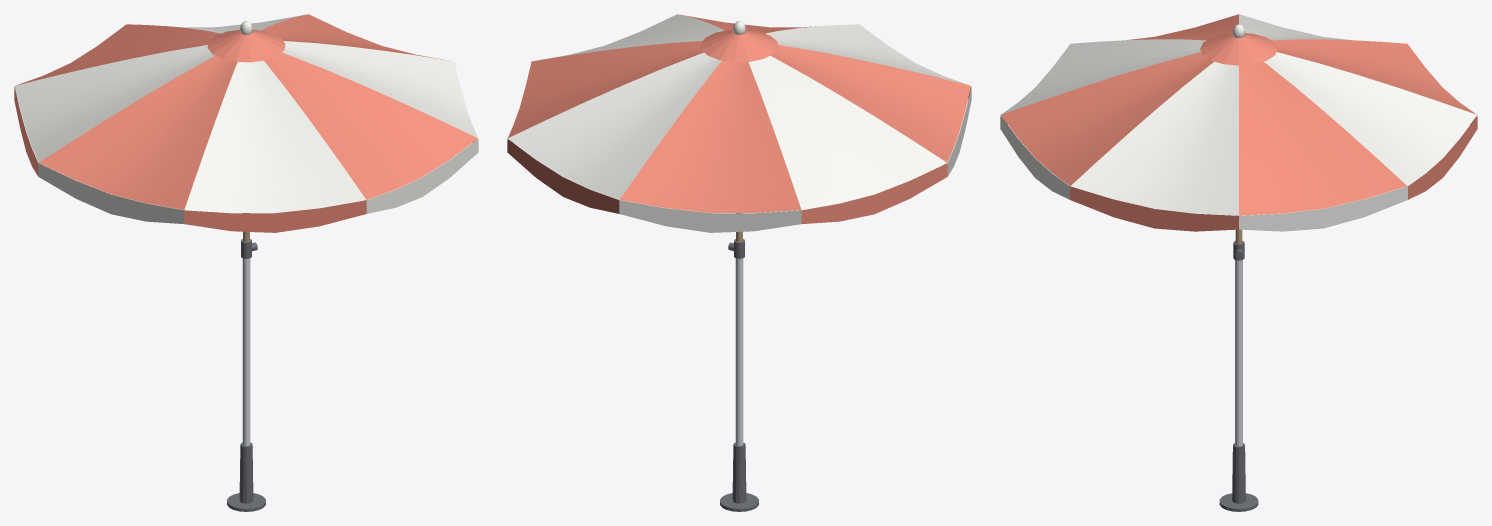
File: beach-surf-and-paddle-kit-beach-umbrella-fb839e7d.glb
3 views of the same model, side by side, from view 1: azimuth 30°, elevation 25°; view 2: azimuth 150°, elevation 25°; view 3: azimuth 270°, elevation 25° (orthographic).
Visible parts, largest first — view 1: beach-umbrella-coral, beach-umbrella-foam, beach-umbrella-steel, beach-umbrella-charcoal; view 2: beach-umbrella-coral, beach-umbrella-foam, beach-umbrella-steel, beach-umbrella-charcoal; view 3: beach-umbrella-coral, beach-umbrella-foam, beach-umbrella-steel, beach-umbrella-charcoal.
Part boxes in pixels (x1=…): beach-umbrella-coral: x1=14, y1=14, x2=477, y2=232; beach-umbrella-foam: x1=14, y1=14, x2=478, y2=223; beach-umbrella-steel: x1=14, y1=62, x2=478, y2=445; beach-umbrella-charcoal: x1=227, y1=239, x2=265, y2=511; beach-umbrella-coral: x1=507, y1=14, x2=971, y2=223; beach-umbrella-foam: x1=508, y1=14, x2=971, y2=232; beach-umbrella-steel: x1=507, y1=62, x2=971, y2=445; beach-umbrella-charcoal: x1=720, y1=239, x2=758, y2=511; beach-umbrella-coral: x1=1000, y1=14, x2=1477, y2=231; beach-umbrella-foam: x1=1000, y1=14, x2=1477, y2=231; beach-umbrella-steel: x1=1000, y1=116, x2=1477, y2=446; beach-umbrella-charcoal: x1=1219, y1=241, x2=1258, y2=511.
Size of the model in its own units: 2.2 by 2.44 by 2.2.
